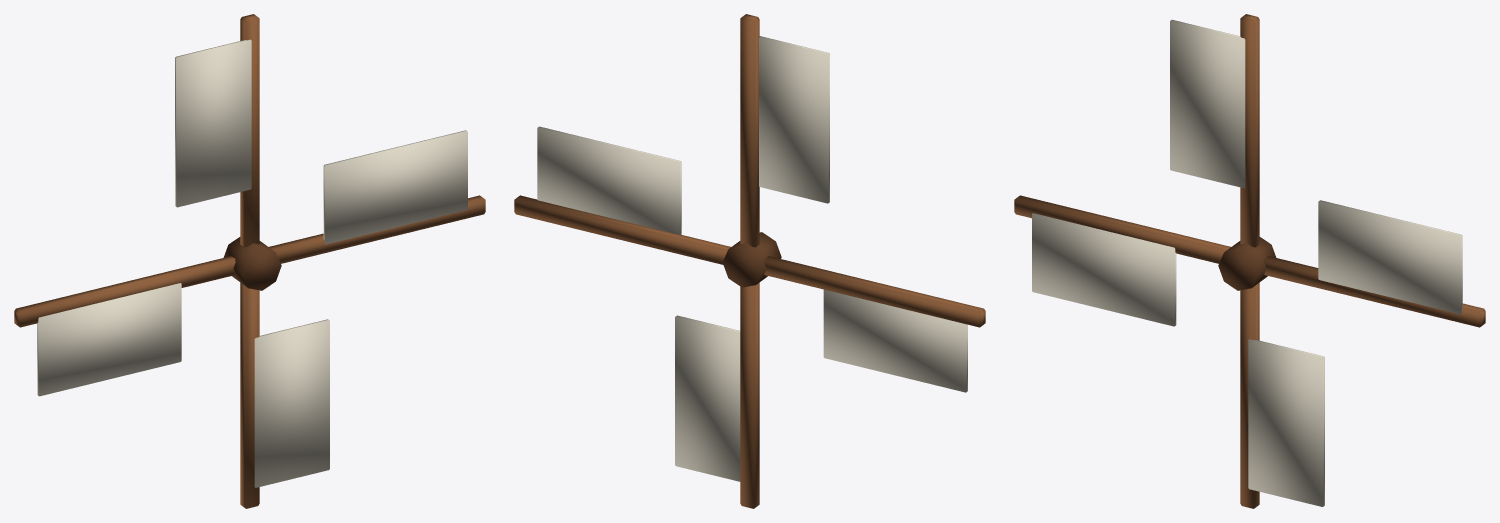
The model's file is moinho-pas.glb.
3 views of the same model, side by side, from view 1: azimuth 30°, elevation 25°; view 2: azimuth 150°, elevation 25°; view 3: azimuth 330°, elevation 25° (orthographic).
Visible parts, largest first — view 1: MoinhoPas; view 2: MoinhoPas; view 3: MoinhoPas.
Part boxes in pixels (x1,y1,x2,y2): MoinhoPas: (14,14,485,508); MoinhoPas: (514,14,985,508); MoinhoPas: (1014,14,1485,508).
Size of the model in its own units: 3.1 by 3.1 by 0.23.
